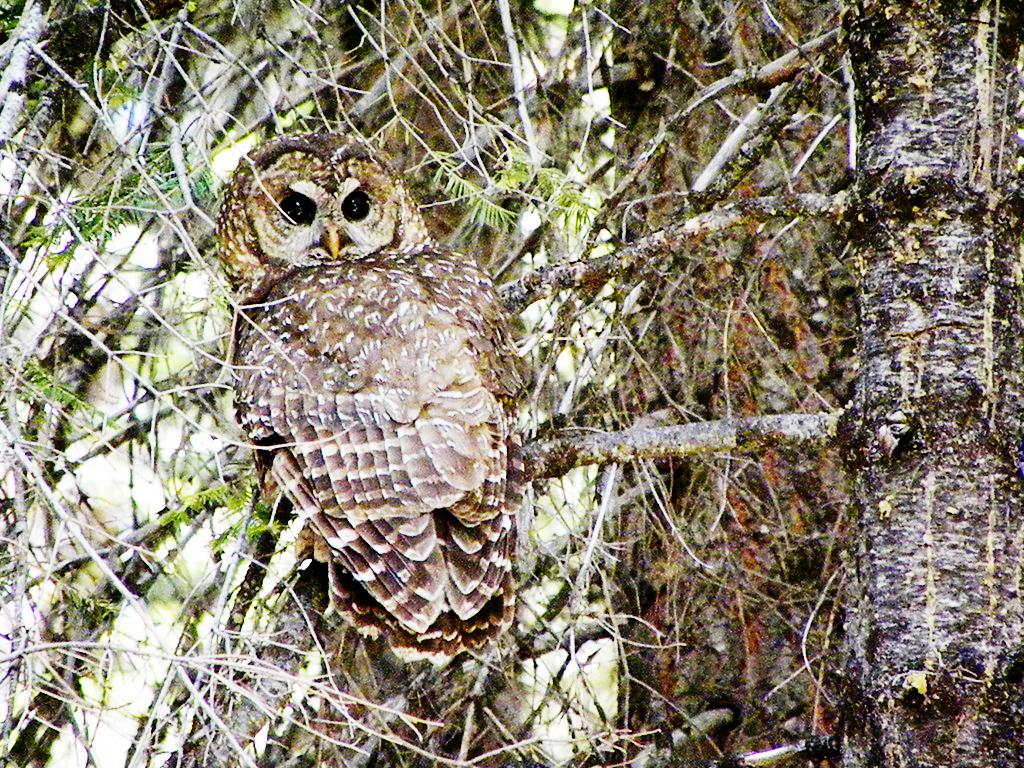Owl: (212, 130, 530, 668)
